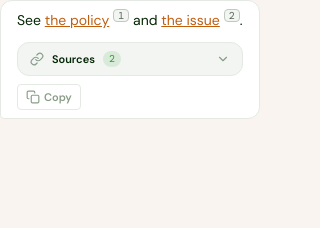
AssistantMessage › opens the sources on the row of the clicked marker
Click the button named "Source 2: sentry.io". click: (232, 16)
box: [224,9,240,22]
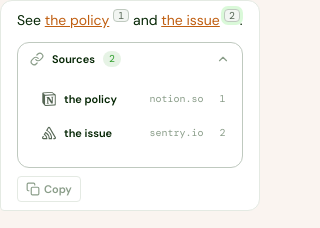
Check: the button "Sources 2" is expanded, box [18,43,242,75]
